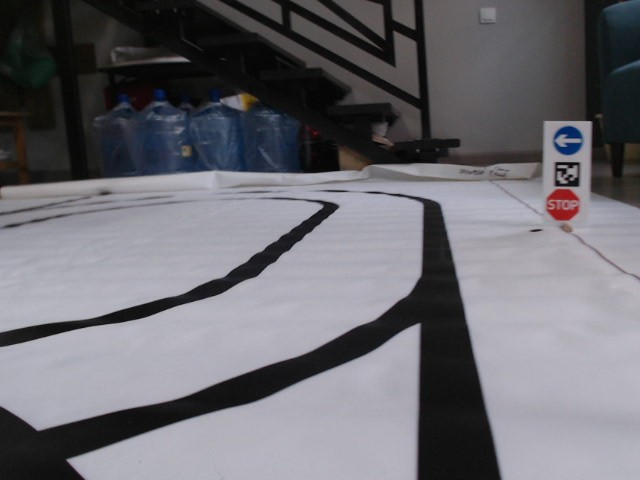Stop: (545, 188, 581, 223)
